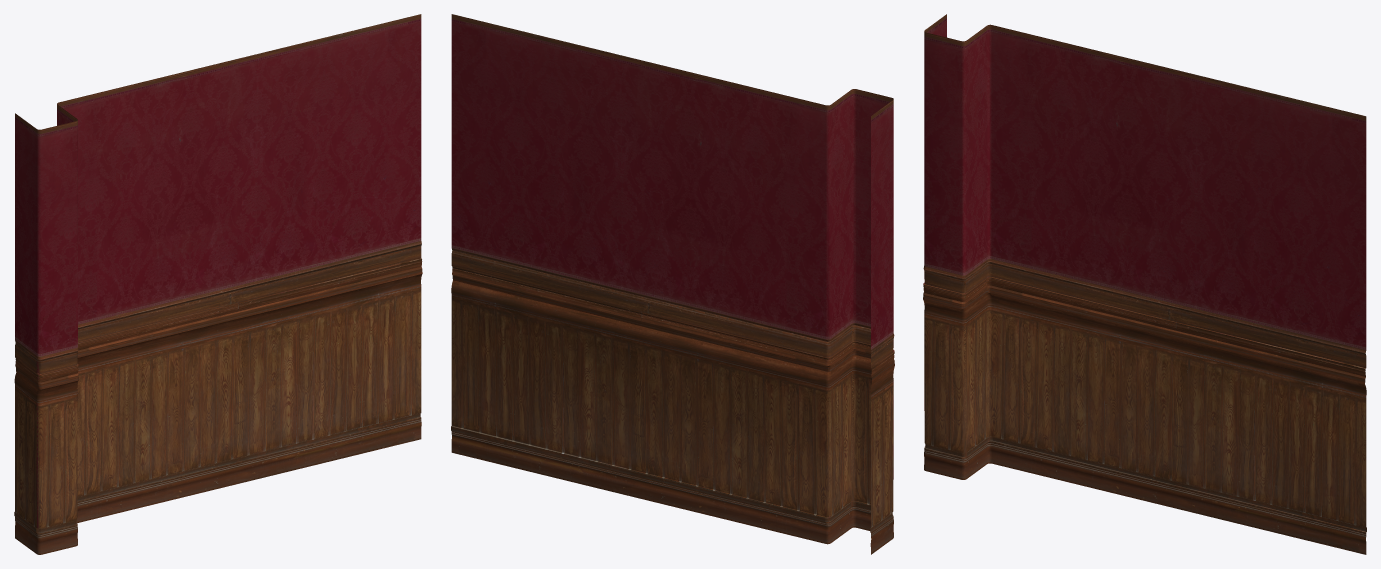
File: Wall_Block.fbx
The picture shows the model from 3 angles, left to right: view 1: azimuth 30°, elevation 25°; view 2: azimuth 150°, elevation 25°; view 3: azimuth 330°, elevation 25°; orthographic projection. The views are drawn at different scales.
Parts seen in each view (by area): view 1: Wall_Block; view 2: Wall_Block; view 3: Wall_Block.
Boxes of the visible parts, <box> form: Wall_Block: <box>14,14,422,554</box>; Wall_Block: <box>451,14,894,554</box>; Wall_Block: <box>923,14,1366,554</box>.
Size of the model in its own units: 200 by 200 by 21.55.
